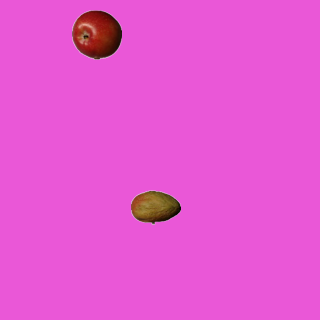Apple Braeburn: (71, 9, 121, 59)
Papaya: (130, 182, 180, 232)
